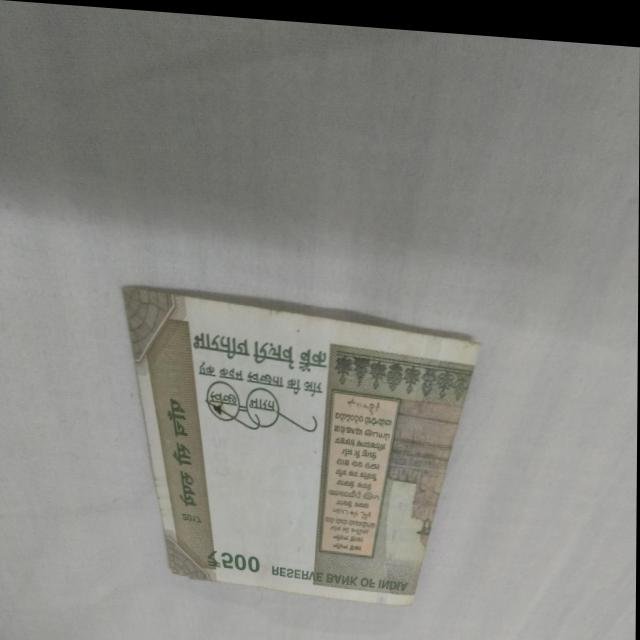Currency: (108, 263, 470, 621)
